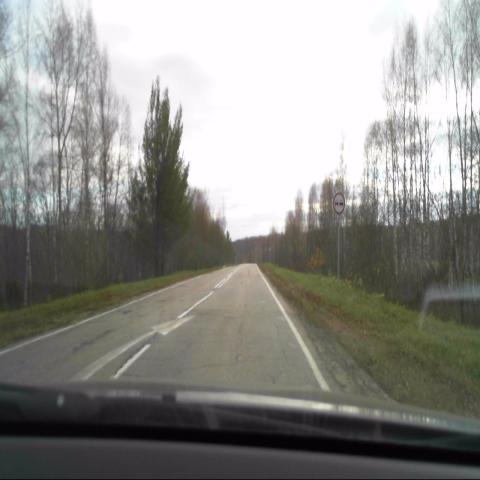3_20: (332, 192, 346, 213)
